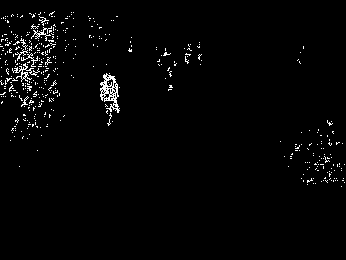person: (99, 72, 121, 127)
